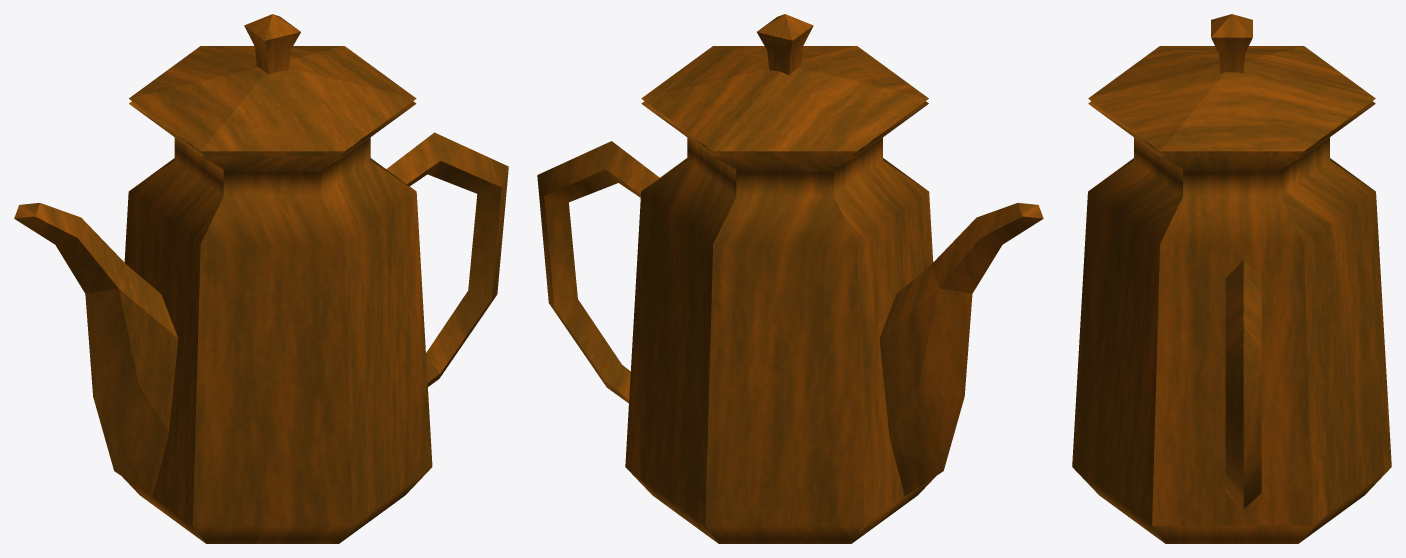
File: teapot.dae
3 renders of one model, left to right at view 1: azimuth 30°, elevation 25°; view 2: azimuth 150°, elevation 25°; view 3: azimuth 270°, elevation 25°, orthographic.
Parts seen in each view (by area): view 1: teapot_top_top; view 2: teapot_top_top; view 3: teapot_top_top.
Boxes of the visible parts, left/top/right/bottom form: teapot_top_top: left=14, top=14, right=508, bottom=543; teapot_top_top: left=537, top=14, right=1043, bottom=543; teapot_top_top: left=1072, top=14, right=1391, bottom=543.
Size of the model in its own units: 4.01 by 2.22 by 3.69.
1 material, 1 textured.
